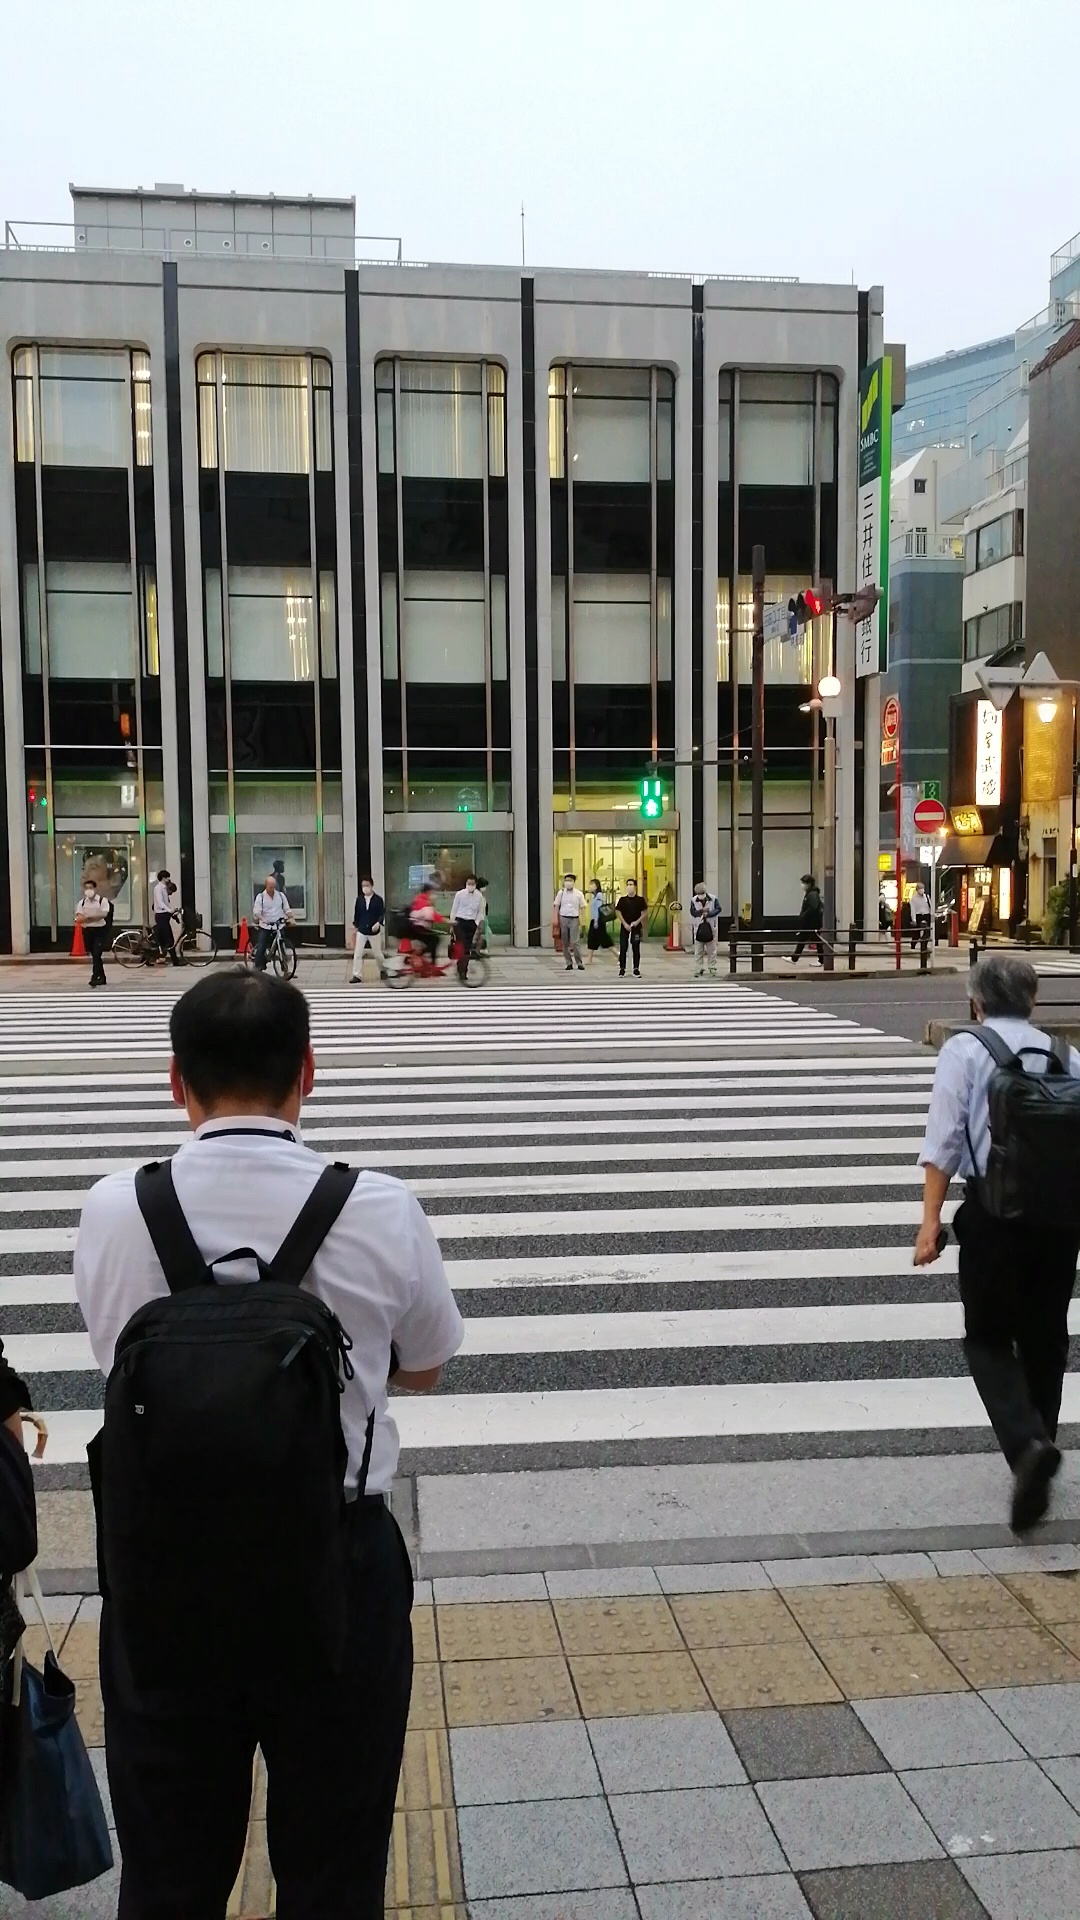green: (640, 774, 665, 822)
